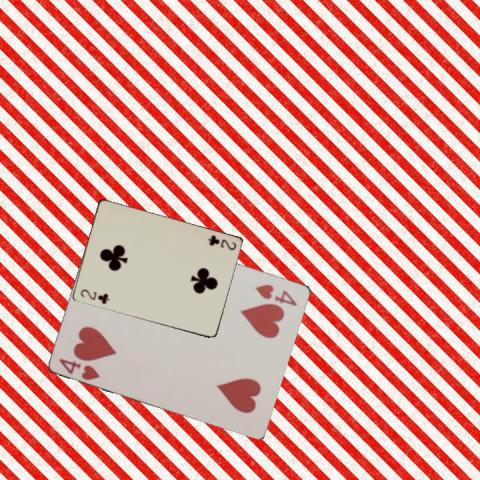2c: (205, 232, 237, 252), (77, 286, 110, 305)
4h: (252, 281, 299, 307), (56, 355, 102, 381)
